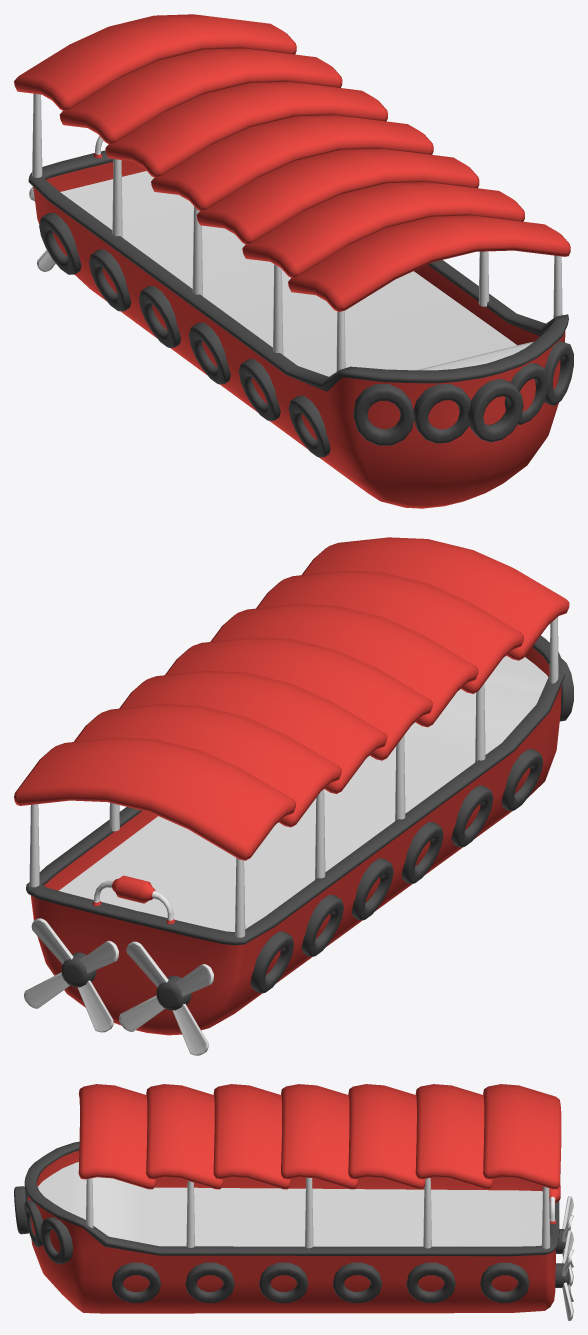
The model's file is Sm_10carsShip.fbx.
3 views of the same model, one above another, from view 1: azimuth 30°, elevation 25°; view 2: azimuth 150°, elevation 25°; view 3: azimuth 270°, elevation 25° (orthographic). The views are drawn at different scales.
Parts seen in each view (by area): view 1: boat_low.016, boat_low.004, boat_low.015, boat_low.008; view 2: boat_low.016, boat_low.004, boat_low.015, boat_low.008, boat_low.009, boat_low.010; view 3: boat_low.016, boat_low.004, boat_low.015, boat_low.008, boat_low.009, boat_low.010.
Part boxes in pixels (box(x1,y1,x2,y2)): boat_low.016: box(14, 14, 570, 311); boat_low.004: box(28, 136, 573, 457); boat_low.015: box(33, 153, 565, 508); boat_low.008: box(32, 93, 562, 371); boat_low.016: box(14, 537, 569, 860); boat_low.004: box(26, 635, 573, 993); boat_low.015: box(30, 647, 561, 1035); boat_low.008: box(29, 617, 558, 937); boat_low.009: box(24, 918, 118, 1032); boat_low.010: box(119, 941, 213, 1055); boat_low.016: box(78, 1084, 561, 1189); boat_low.004: box(14, 1141, 559, 1302); boat_low.015: box(28, 1151, 560, 1313); boat_low.008: box(86, 1177, 550, 1248); boat_low.009: box(555, 1230, 573, 1320); boat_low.010: box(556, 1196, 573, 1286).
Bounding box in the file's own units: 254 × 270 × 699.
